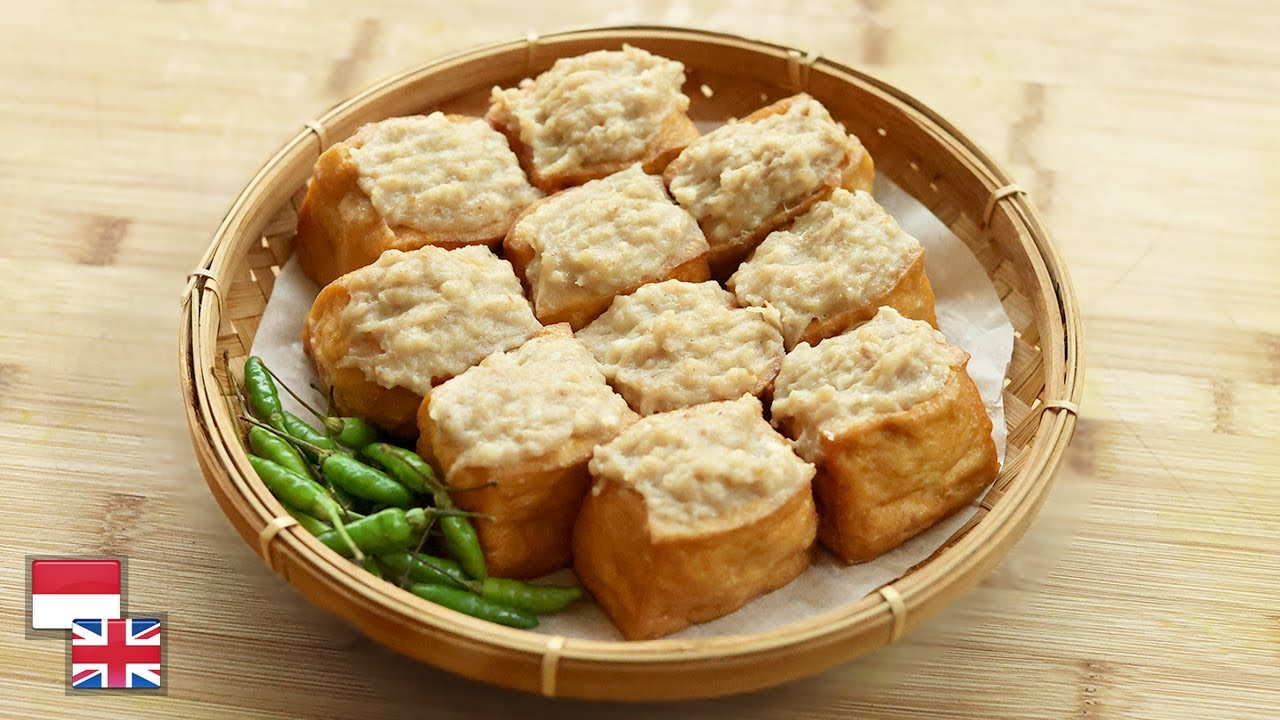Tahu: (284, 103, 502, 322), (592, 409, 792, 607), (811, 306, 1000, 504), (344, 230, 520, 440), (765, 174, 916, 375), (513, 157, 693, 316), (470, 318, 604, 513), (653, 93, 829, 238), (506, 47, 698, 172), (629, 278, 750, 425)
